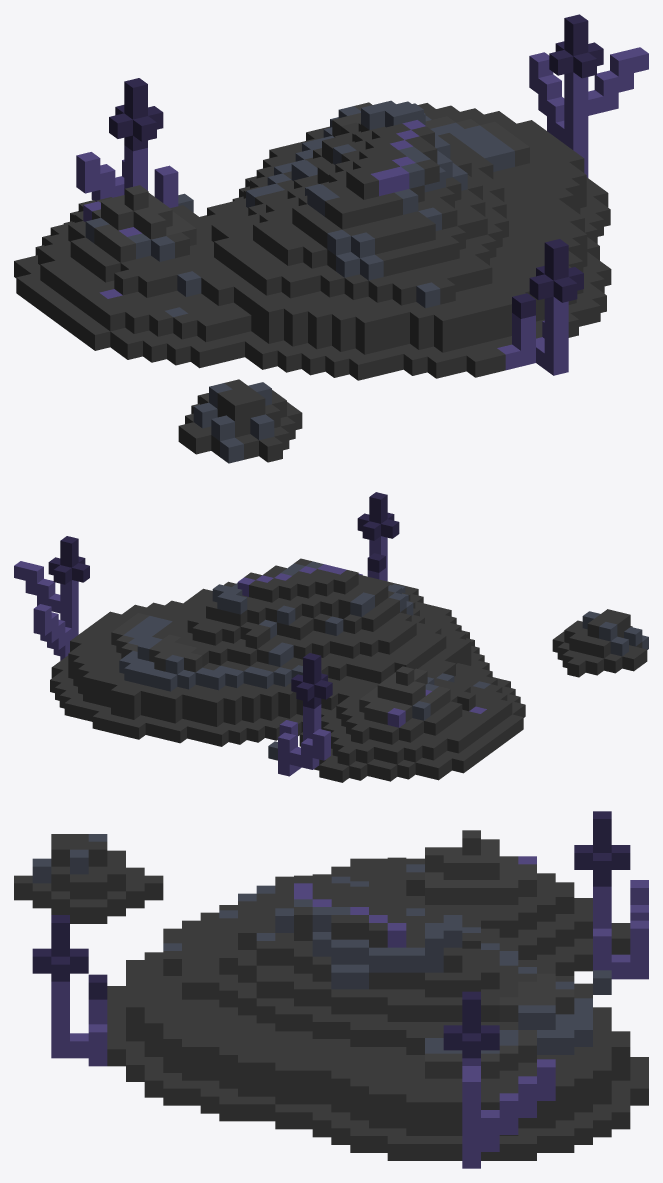
Rendered from groupe-rochers.obj.
3 renders of one model, top to bottom at view 1: azimuth 30°, elevation 25°; view 2: azimuth 150°, elevation 25°; view 3: azimuth 270°, elevation 25°, orthographic. The views are drawn at different scales.
Bounding box in the file's own units: 4.2 × 1 × 3.4.
1 material, 1 textured.
